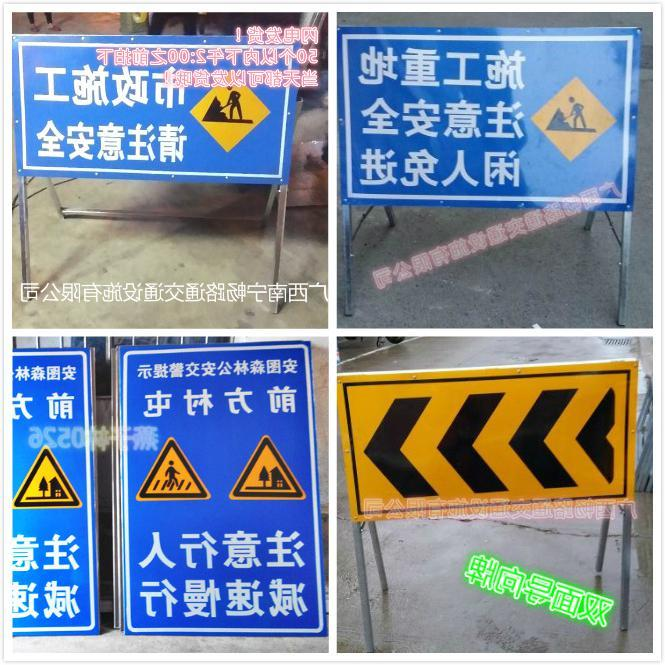sign: (120, 351, 317, 634), (340, 30, 630, 204), (349, 364, 633, 514), (15, 39, 292, 183)
